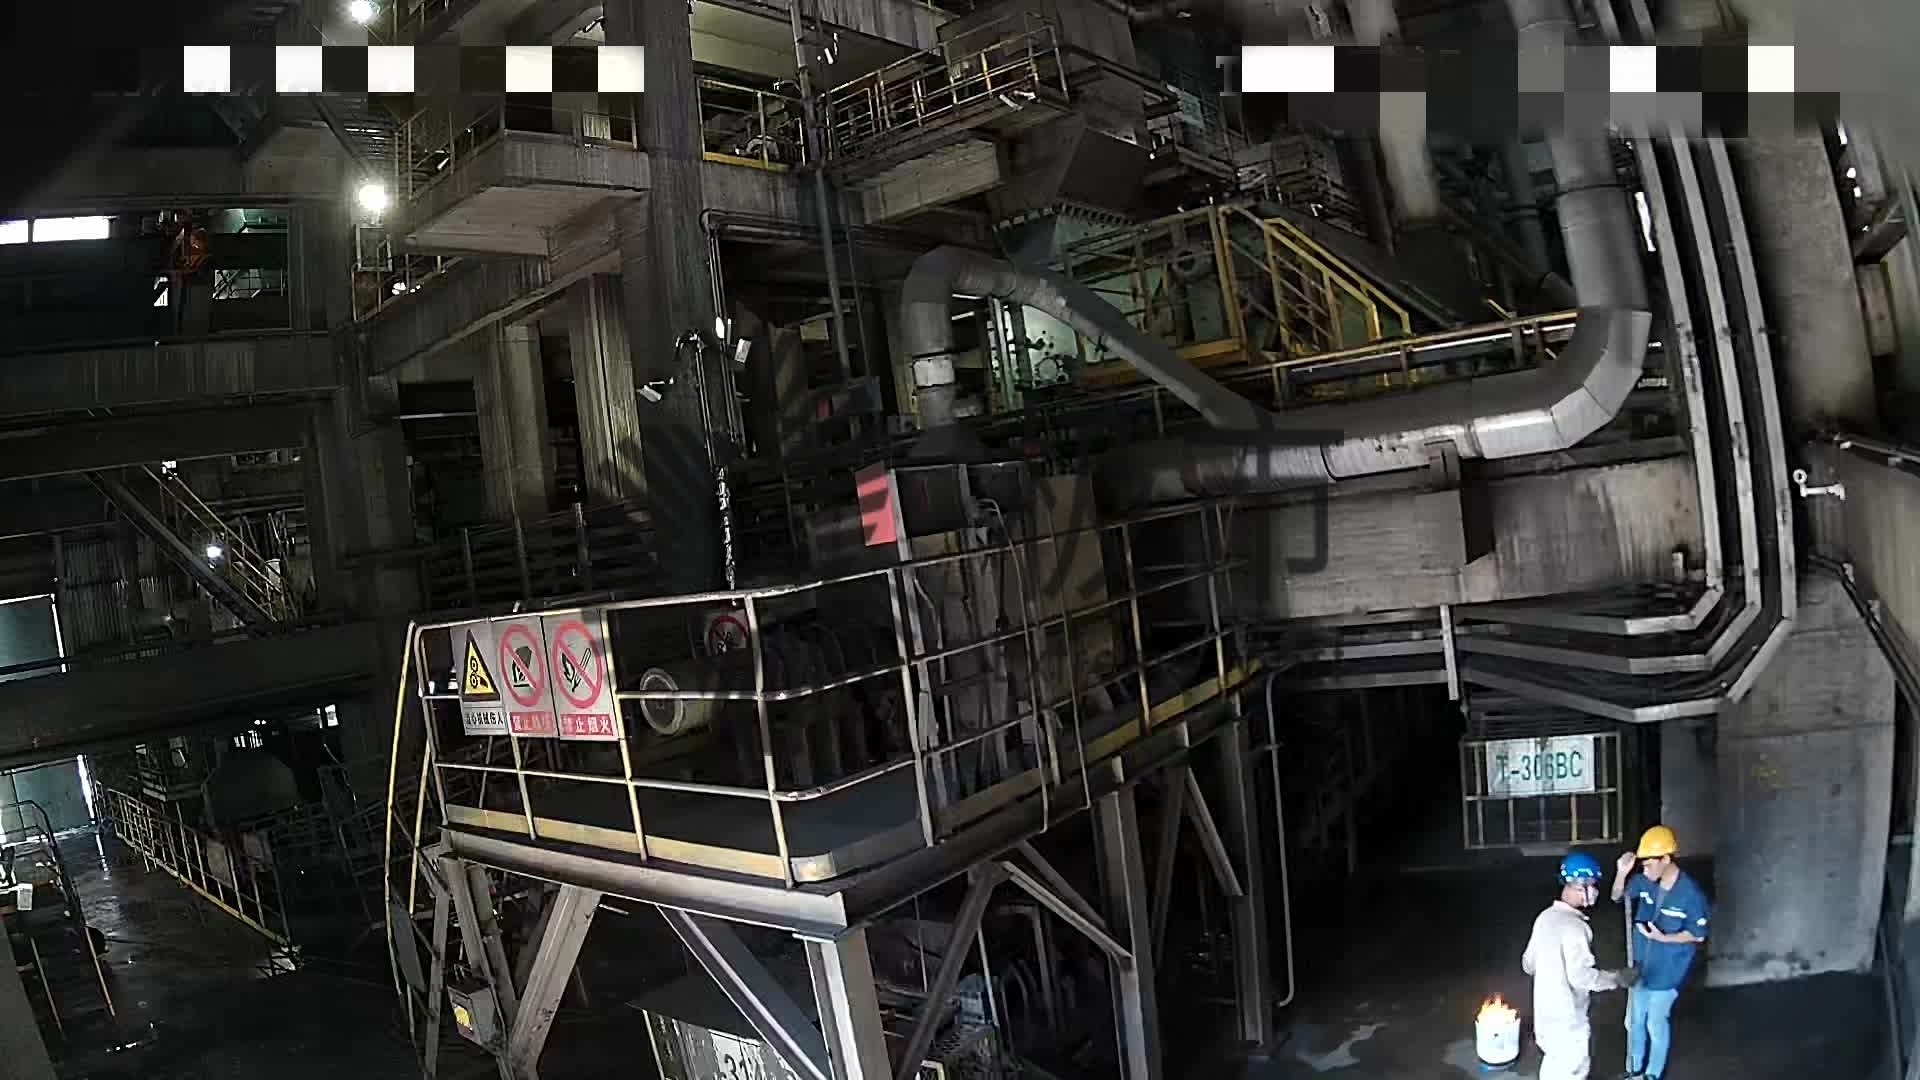fire: (1470, 992, 1520, 1054)
